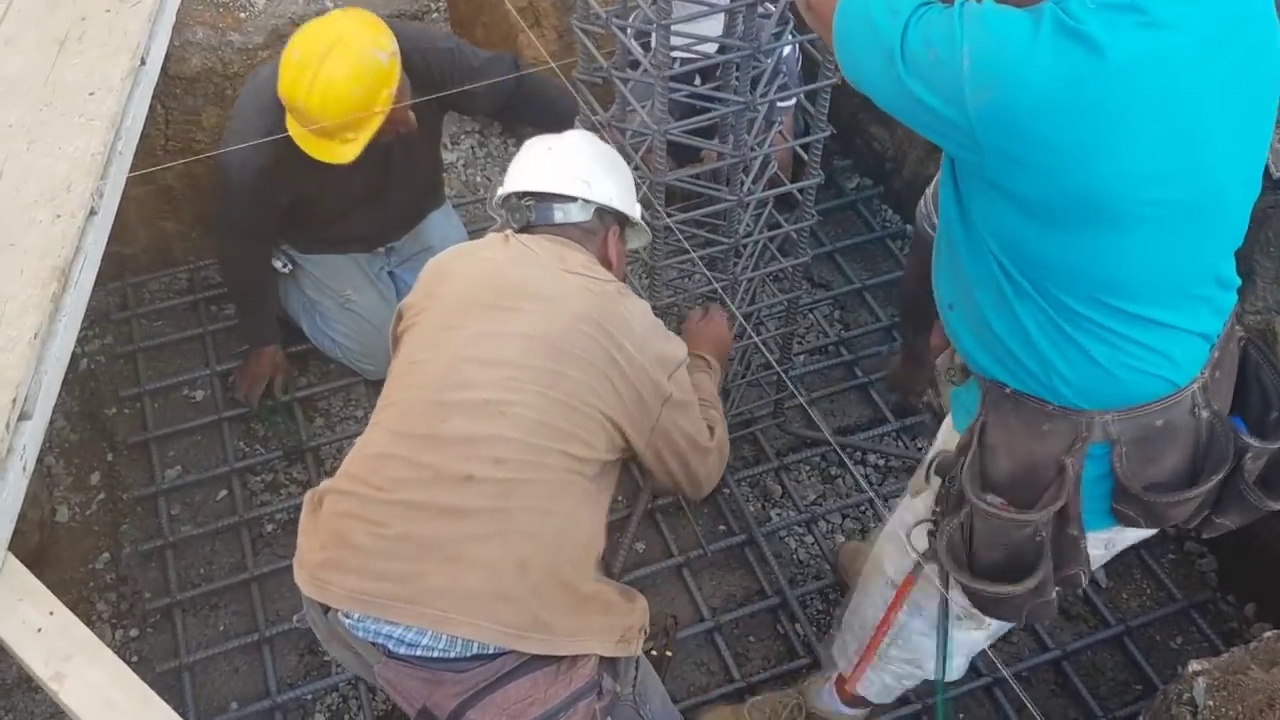helmet: (280, 8, 400, 166), (489, 123, 641, 234)
helmet-on: (239, 3, 413, 175), (484, 112, 656, 280)
person: (793, 0, 1279, 688), (251, 60, 709, 720), (643, 2, 805, 222)
